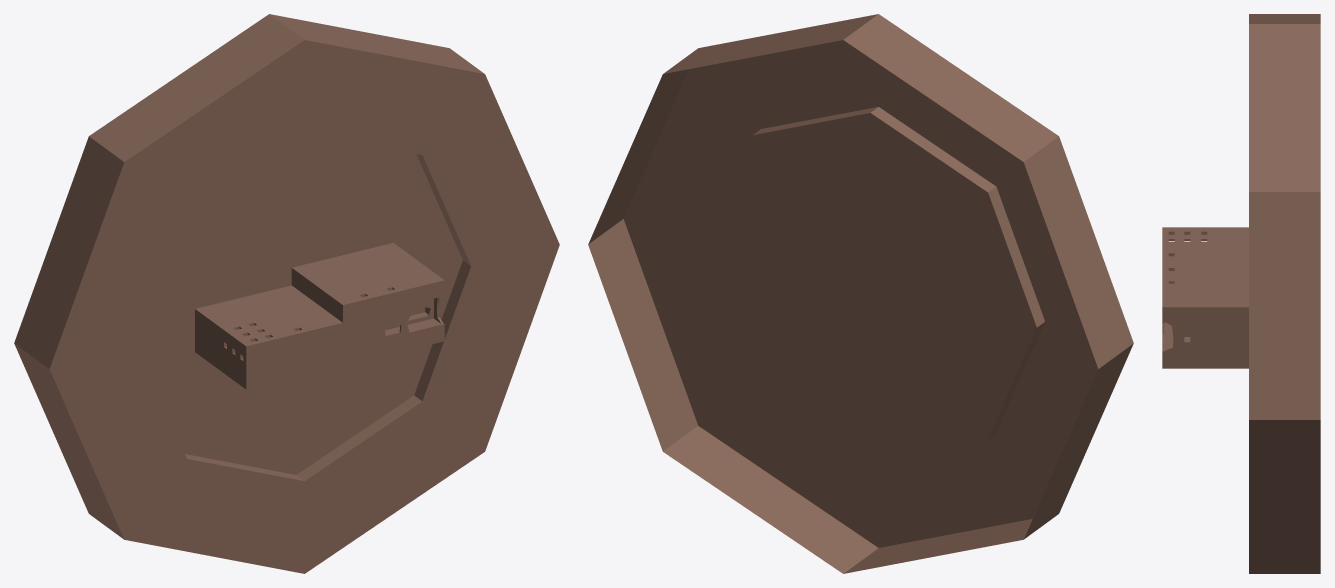
The model's file is First_Level_0000_col.obj.
3 views of the same model, side by side, from view 1: azimuth 30°, elevation 25°; view 2: azimuth 150°, elevation 25°; view 3: azimuth 270°, elevation 25° (orthographic).
Visible parts, largest first — view 1: Cube.004_Cube.008; view 2: Cube.004_Cube.008; view 3: Cube.004_Cube.008.
Part boxes in pixels (x1,y1,x2,y2): Cube.004_Cube.008: [14, 14, 559, 573]; Cube.004_Cube.008: [588, 14, 1133, 573]; Cube.004_Cube.008: [1162, 14, 1320, 573].
Bounding box in the file's own units: 2347 × 2347 × 624.
